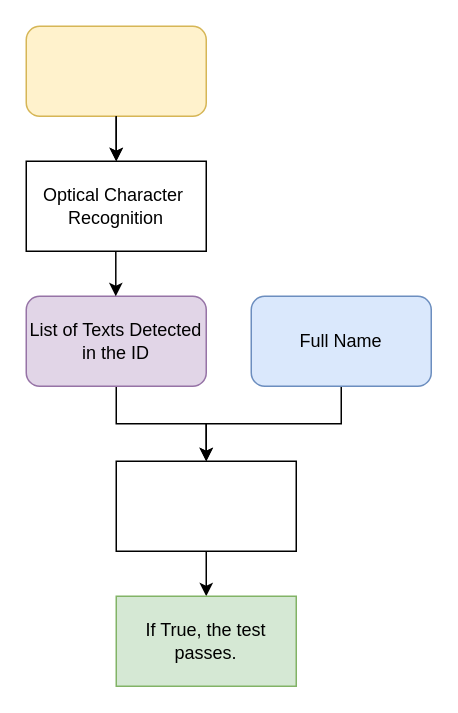
The diagram is 458 pixels wide and 713 high, and some of its shapes have lost their labels. Each missing label, with the centre of its shape:
Check if full name is in the list of texts detected.: [205,505]
ID Picture: [115,70]
